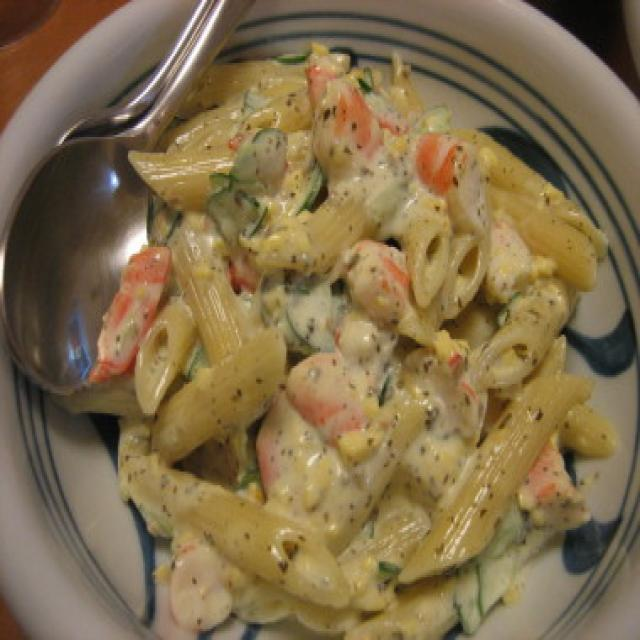蔬菜料理: (0, 0, 640, 636)
